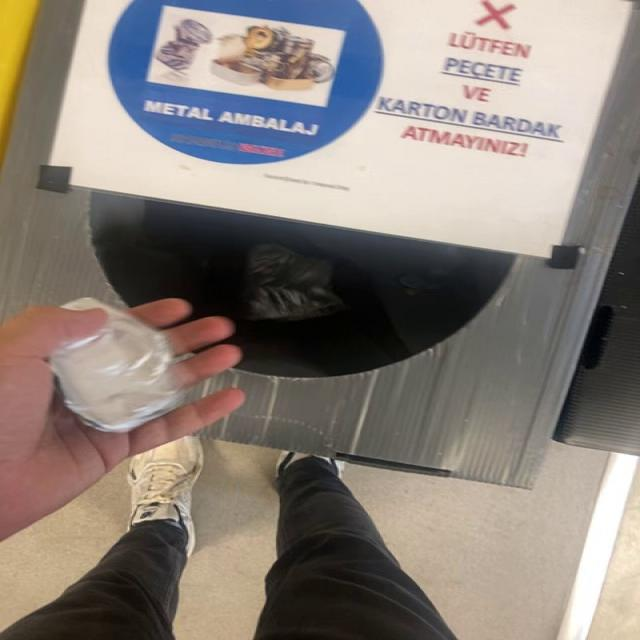metal: (244, 244, 347, 322)
